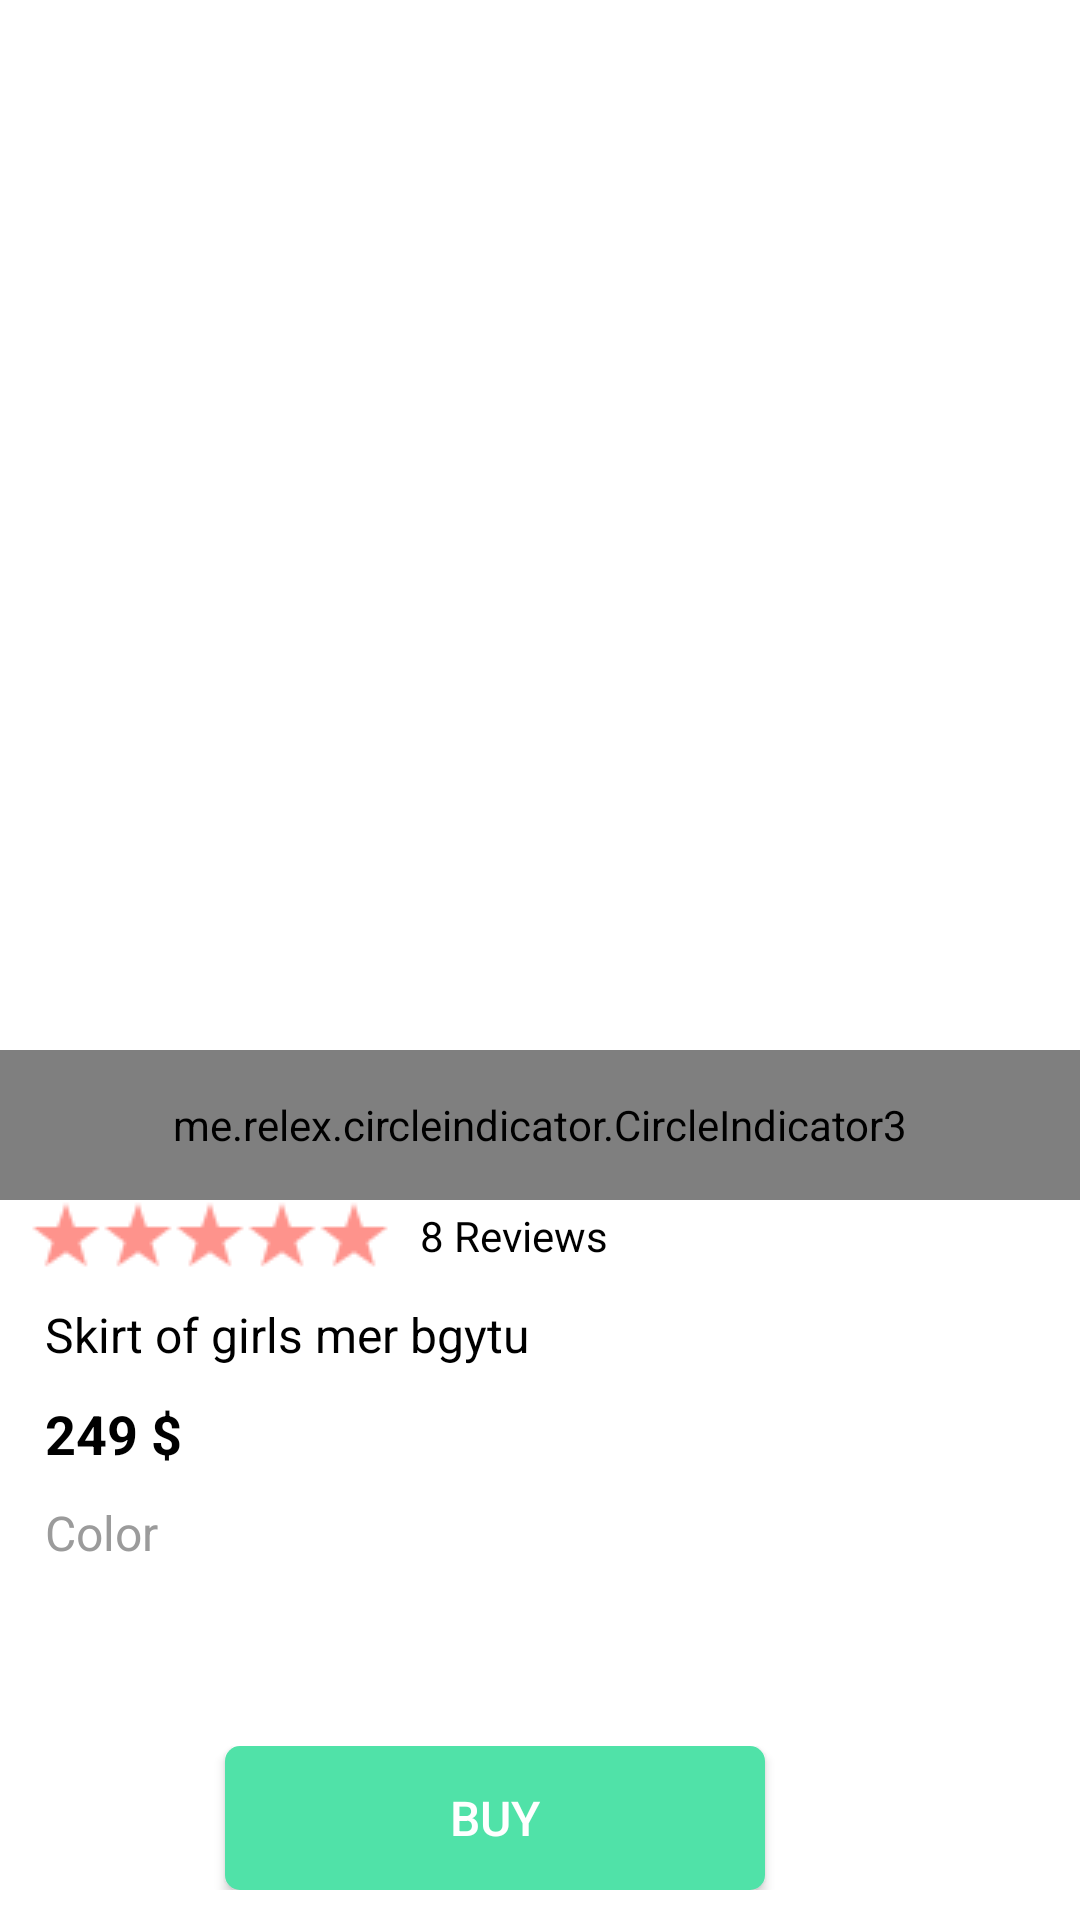

Screen size 1080*1920. Icon name, then its center in pixels as [x,y]:
startss: [66,1235], [138,1235], [210,1235], [282,1235], [354,1235]
